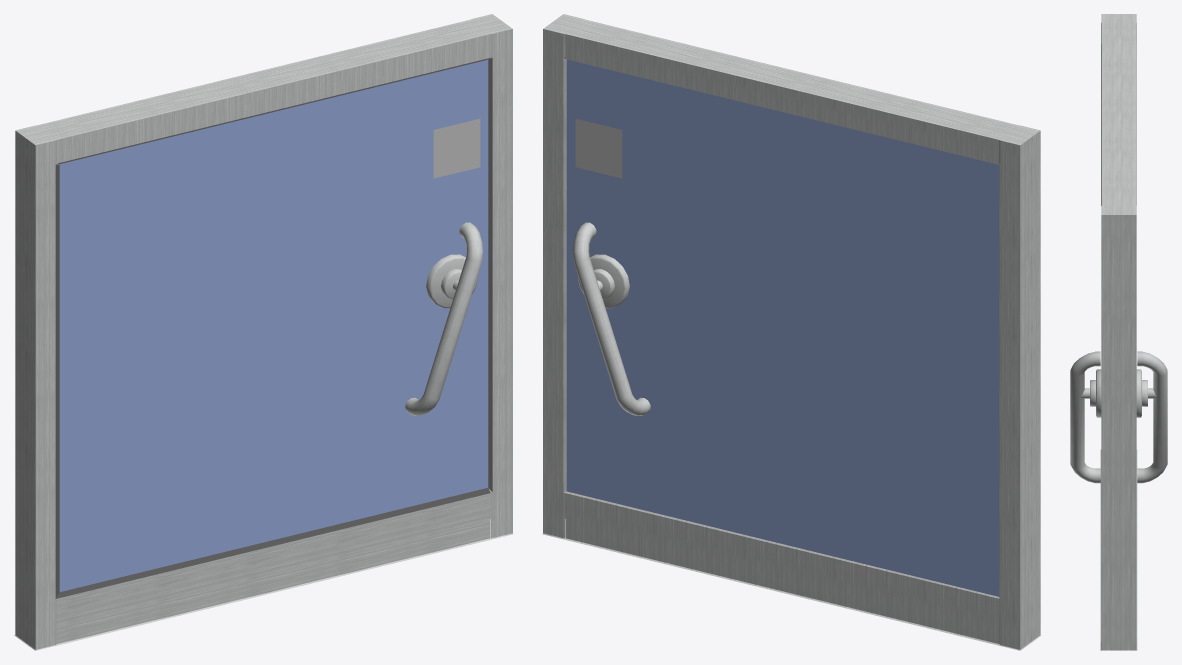
Rendered from OR_Door_Small.fbx.
The picture shows the model from 3 angles, left to right: view 1: azimuth 30°, elevation 25°; view 2: azimuth 150°, elevation 25°; view 3: azimuth 270°, elevation 25°; orthographic projection. The views are drawn at different scales.
Parts seen in each view (by area): view 1: OR_Door_Small; view 2: OR_Door_Small; view 3: OR_Door_Small.
Part boxes in pixels (left/top/right/bottom): OR_Door_Small: left=14, top=14, right=513, bottom=650; OR_Door_Small: left=542, top=14, right=1041, bottom=650; OR_Door_Small: left=1070, top=14, right=1167, bottom=650.
Bounding box in the file's own units: 98.65 × 99.53 × 20.21.
